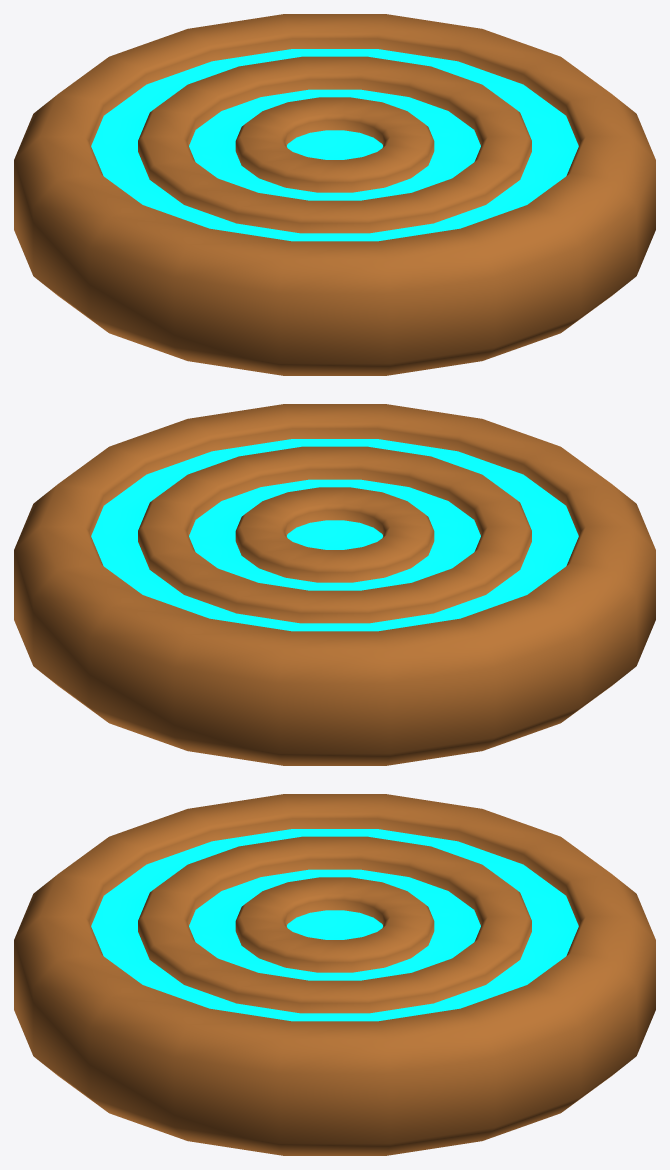
The model's file is battery.glb.
3 renders of one model, top to bottom at view 1: azimuth 30°, elevation 25°; view 2: azimuth 150°, elevation 25°; view 3: azimuth 270°, elevation 25°, orthographic.
Visible parts, largest first — view 1: Blender; view 2: Blender; view 3: Blender.
Part boxes in pixels (bbox=[...]): Blender: bbox=[14, 14, 655, 375]; Blender: bbox=[14, 404, 655, 765]; Blender: bbox=[14, 794, 655, 1155].
Bounding box in the file's own units: 1.97 × 0.4 × 2.
